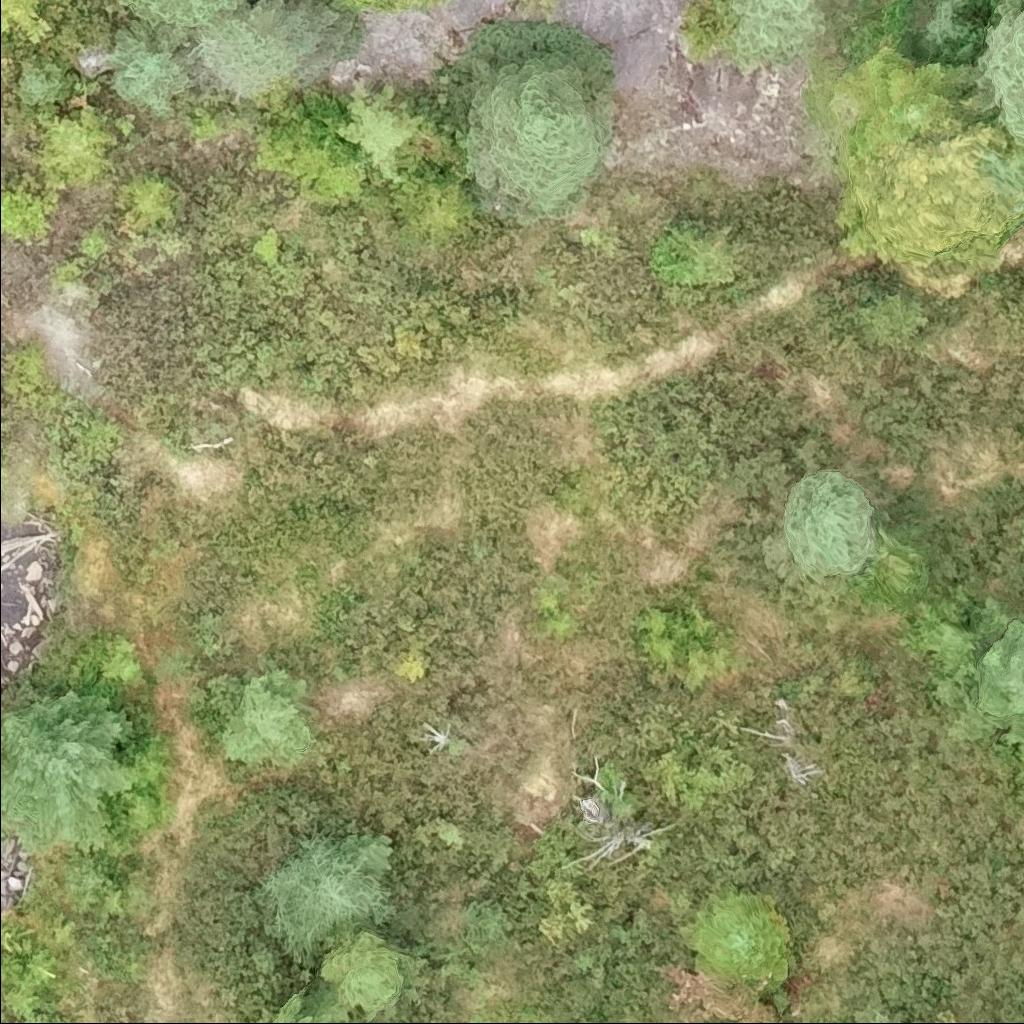crown: (468, 53, 615, 221), (849, 117, 1021, 255), (0, 691, 135, 858), (264, 833, 395, 964), (200, 0, 359, 98), (682, 893, 787, 987), (783, 474, 875, 580), (219, 671, 312, 765), (321, 935, 415, 1018), (113, 18, 191, 118), (36, 111, 122, 192), (734, 0, 829, 69), (984, 0, 1023, 141), (975, 619, 1023, 722), (125, 0, 243, 27), (128, 178, 176, 229), (0, 0, 56, 43), (278, 994, 344, 1023), (369, 0, 432, 10), (855, 1013, 892, 1023)
